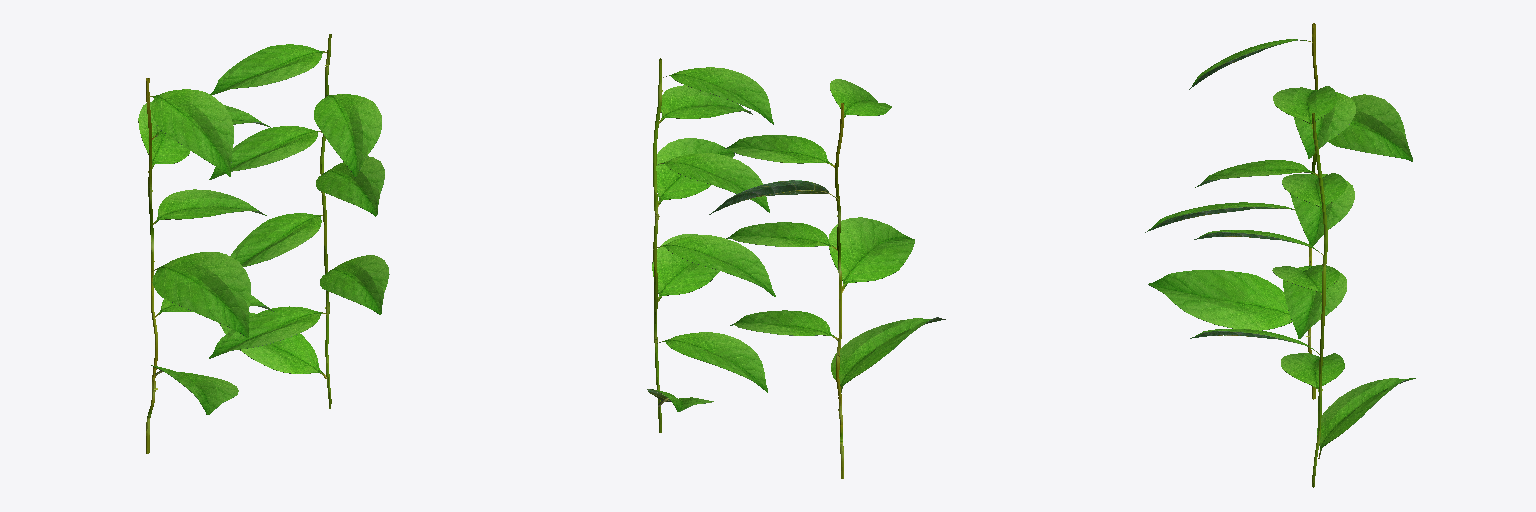
The picture shows the model from 3 angles: view 1: azimuth 30°, elevation 25°; view 2: azimuth 150°, elevation 25°; view 3: azimuth 270°, elevation 25°; orthographic projection.
Parts seen in each view (by area): view 1: leave_125, leave_129, leave_122, leave_112, leave_119, leave_126, leave_121, leave_117, leave_124, leave_116, leave_127, leave_128 (+3 smaller); view 2: leave_125, leave_119, leave_121, leave_128, leave_117, leave_112, leave_124, leave_115, leave_126, leave_122, leave_116, leave_118 (+5 smaller); view 3: leave_128, leave_123, leave_127, leave_118, leave_112, leave_116, leave_115, leave_121, leave_117, leaf_2, leave_122, leave_119 (+4 smaller).
Part boxes in pixels (x1,y1,x2,y2): leave_125: (152, 252, 250, 337); leave_129: (149, 89, 233, 176); leave_122: (314, 94, 381, 177); leave_112: (210, 44, 326, 94); leave_119: (230, 213, 322, 266); leave_126: (320, 255, 389, 314); leave_121: (209, 306, 326, 358); leave_117: (209, 126, 321, 179); leave_124: (316, 156, 384, 216); leave_116: (153, 189, 266, 224); leave_127: (219, 312, 326, 378); leave_128: (151, 365, 238, 414); leave_125: (829, 217, 914, 292); leave_119: (653, 235, 775, 296); leave_121: (657, 332, 767, 392); leave_128: (831, 317, 945, 398); leave_117: (658, 153, 769, 212); leave_112: (663, 67, 773, 124); leave_124: (656, 138, 734, 206); leave_115: (724, 135, 834, 167); leave_126: (652, 234, 719, 301); leave_122: (659, 85, 752, 123); leave_116: (726, 222, 837, 250); leave_118: (730, 310, 838, 341); leave_128: (1148, 270, 1291, 330); leave_123: (1328, 94, 1412, 161); leave_127: (1317, 378, 1415, 458); leave_118: (1283, 265, 1346, 338); leave_112: (1273, 86, 1337, 128); leave_116: (1290, 174, 1354, 247); leave_115: (1294, 90, 1355, 158); leave_121: (1281, 353, 1344, 391); leave_117: (1282, 173, 1347, 207); leaf_2: (1312, 113, 1327, 487); leave_122: (1195, 160, 1317, 187); leave_119: (1272, 265, 1339, 294).
Size of the model in its own units: 90.45 by 141 by 92.47.
2 materials, 2 textured.